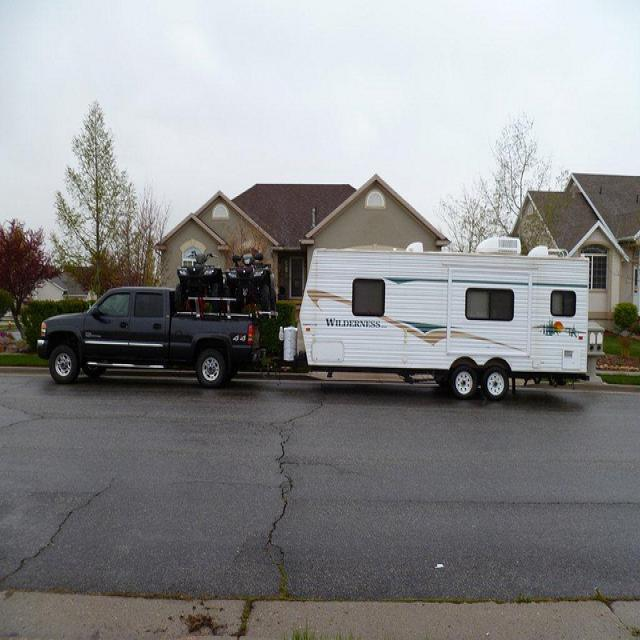motor: (239, 244, 272, 312), (187, 249, 222, 298)
